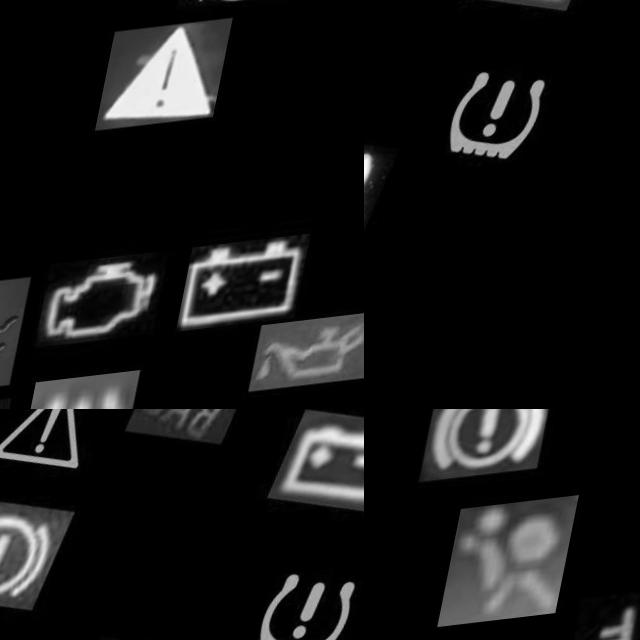Central Warning lamp: (105, 29, 238, 139), (0, 409, 140, 505)
Engine cooling system: (0, 283, 46, 402)
